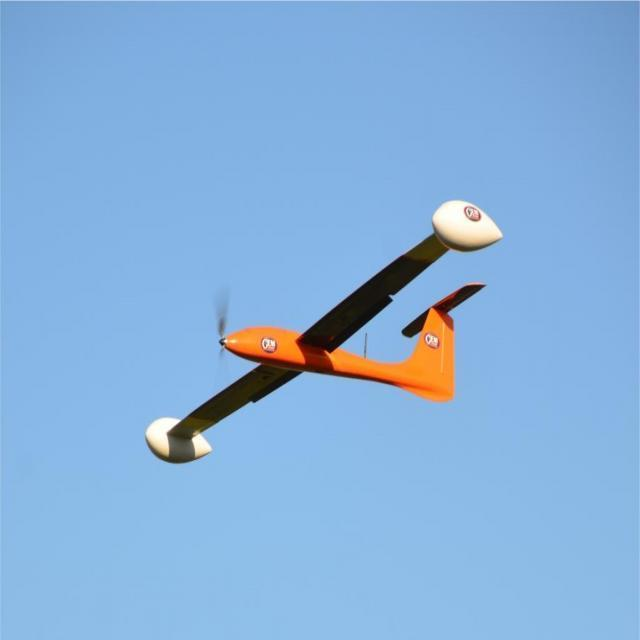iha: (140, 186, 505, 464)
